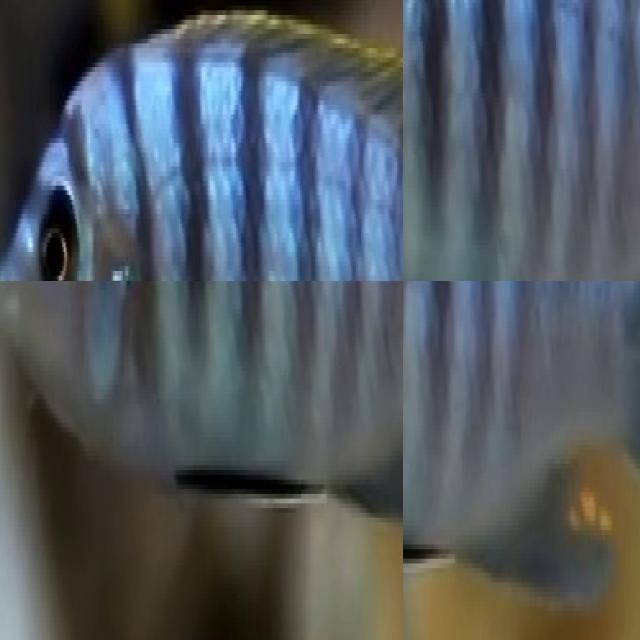fish: (0, 281, 403, 569), (0, 0, 403, 281), (403, 281, 640, 634), (403, 0, 640, 281)
